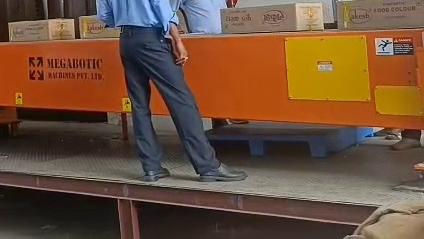box: (221, 3, 323, 33), (338, 0, 423, 29), (9, 19, 75, 41), (79, 16, 119, 38)
